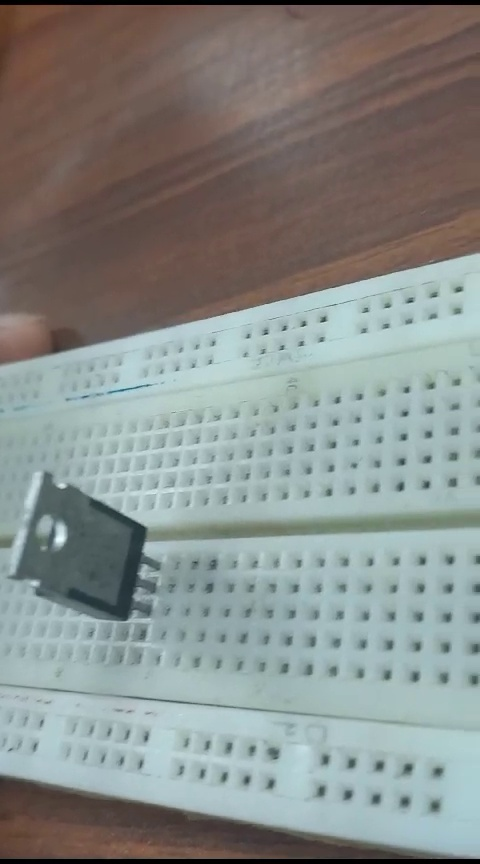voltage regulator: (5, 460, 160, 639)
